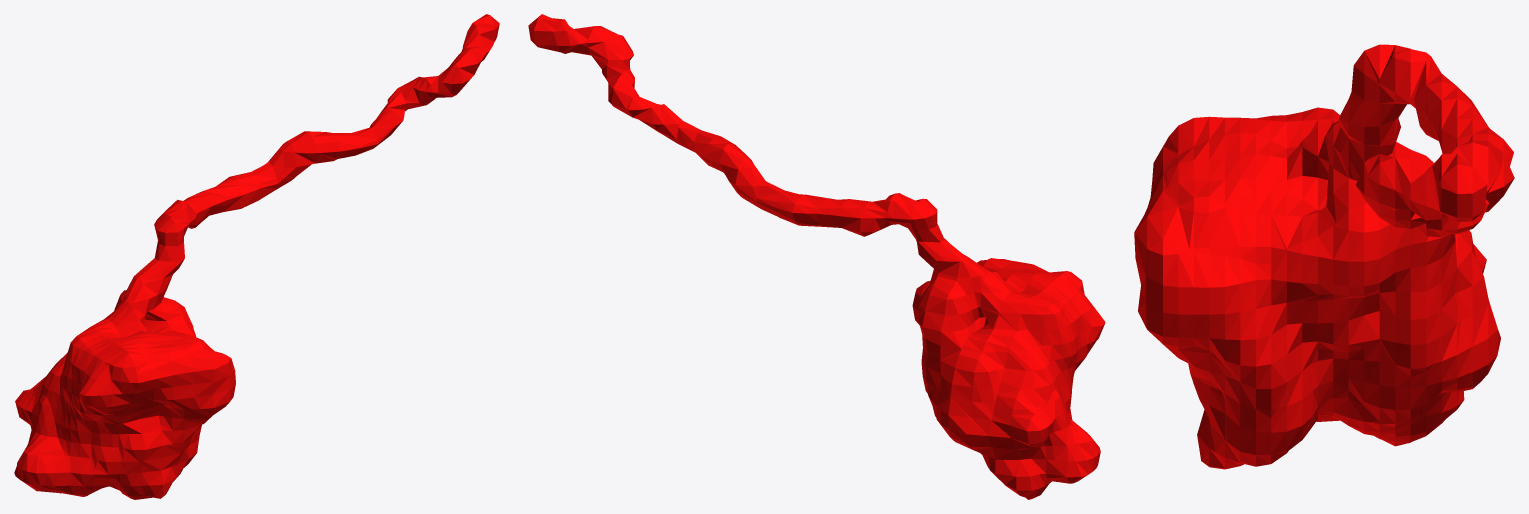
Rendered from actP_coarse.dae.
3 views of the same model, side by side, from view 1: azimuth 30°, elevation 25°; view 2: azimuth 150°, elevation 25°; view 3: azimuth 270°, elevation 25° (orthographic). The views are drawn at different scales.
Visible parts, largest first — view 1: actP; view 2: actP; view 3: actP.
Boxes of the visible parts, x1,y1,x2,y2 form: actP: [14, 14, 499, 499]; actP: [528, 14, 1105, 499]; actP: [1134, 44, 1514, 469].
Bounding box in the file's own units: 189 × 128 × 61.78.
